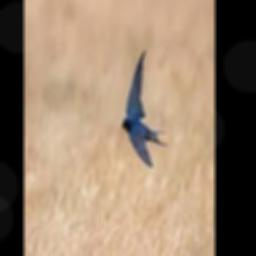Swallow: (122, 49, 167, 166)
